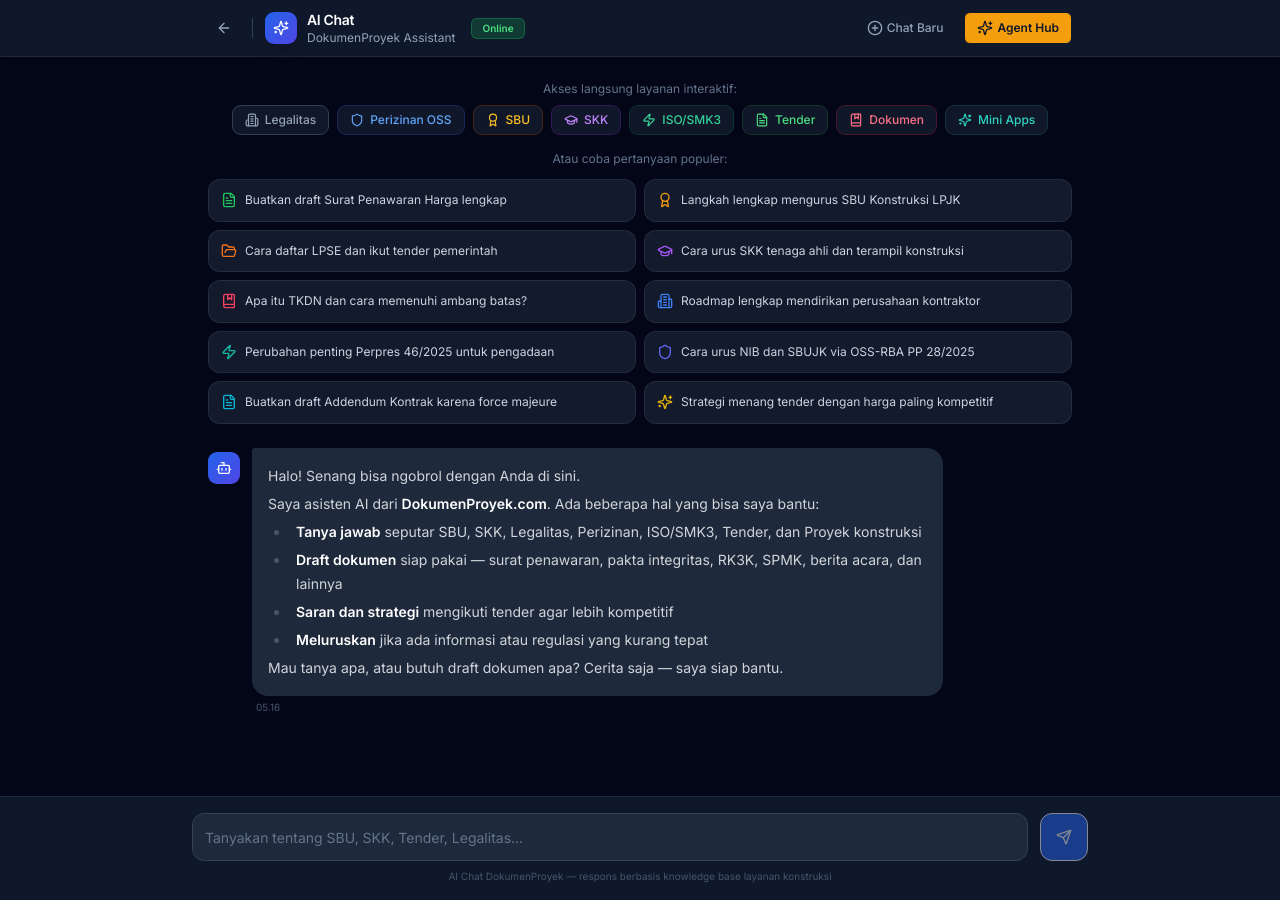
AIChat – error message rendering › shows quota-exceeded message and retry button when API returns 429/503
The width and height of the screenshot is (1280, 900).
In the field with test id "input-chat": (610, 837) [192,813,1028,861], type "Test quota"
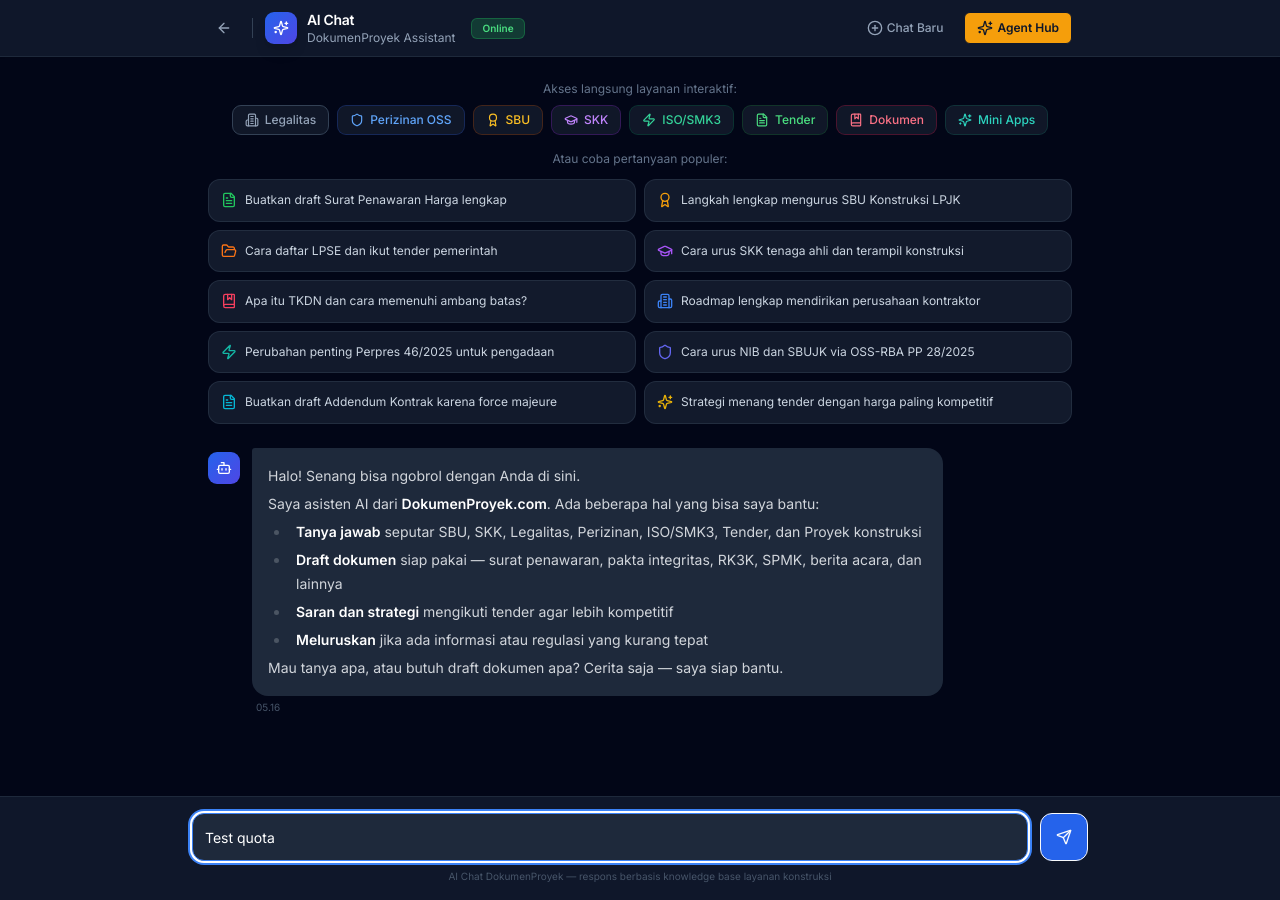
Click the button with test id "button-send-chat": (1064, 837) [1040,813,1088,861]
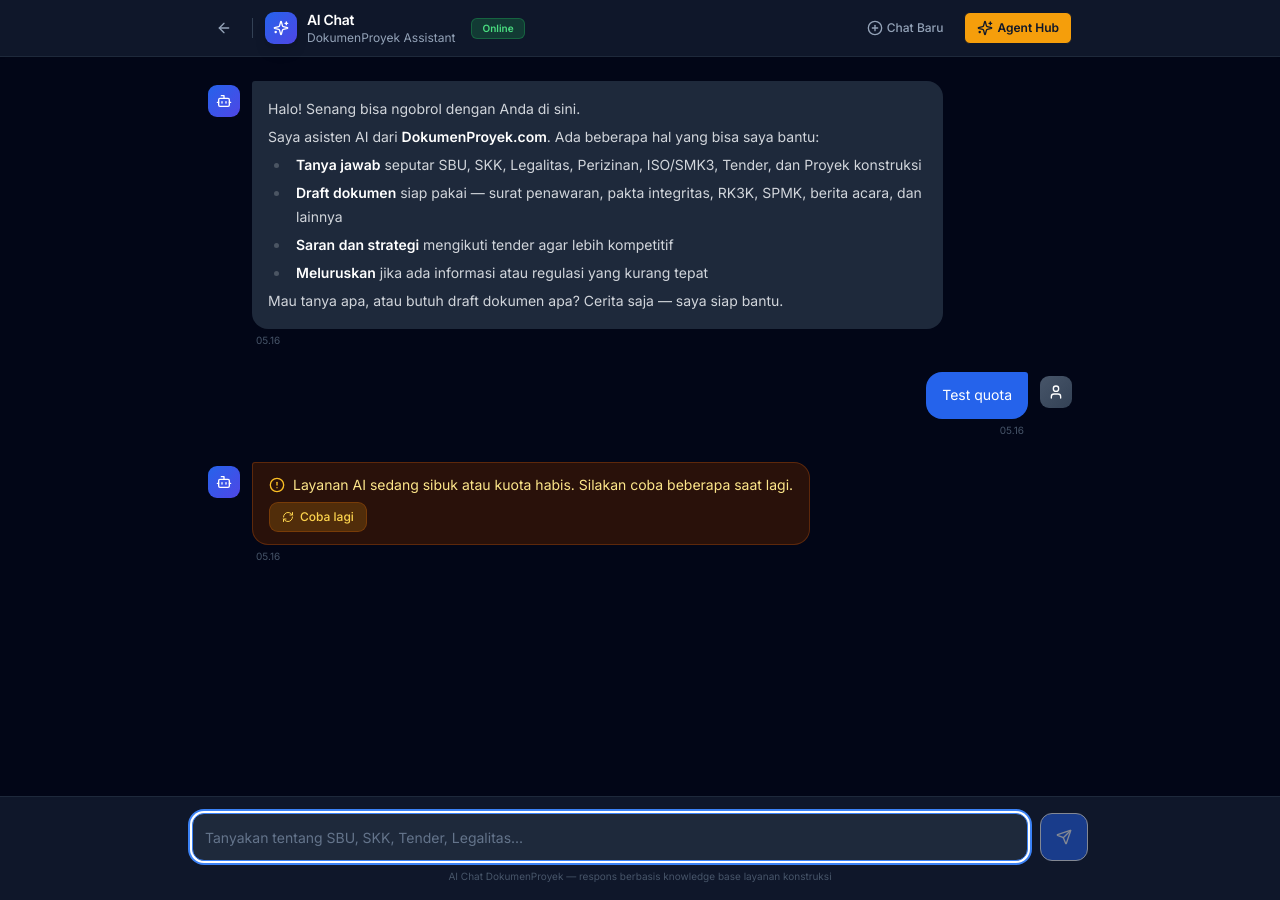
Now the text "Layanan AI sedang sibuk atau kuota habis" is shown, box [293,476,793,493]
Now the button with test id "button-retry-chat" is shown, box [269,502,367,532]
